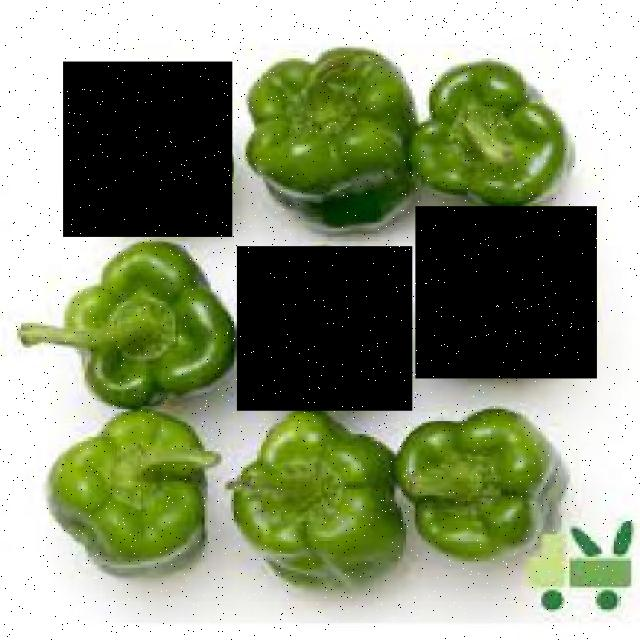Capsicum: (416, 206, 596, 379), (63, 61, 232, 237), (237, 246, 412, 411)
